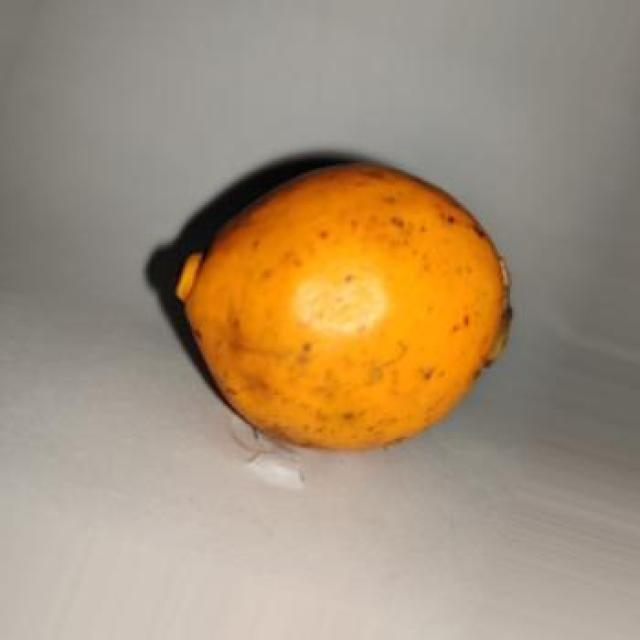good: (177, 159, 512, 452)
